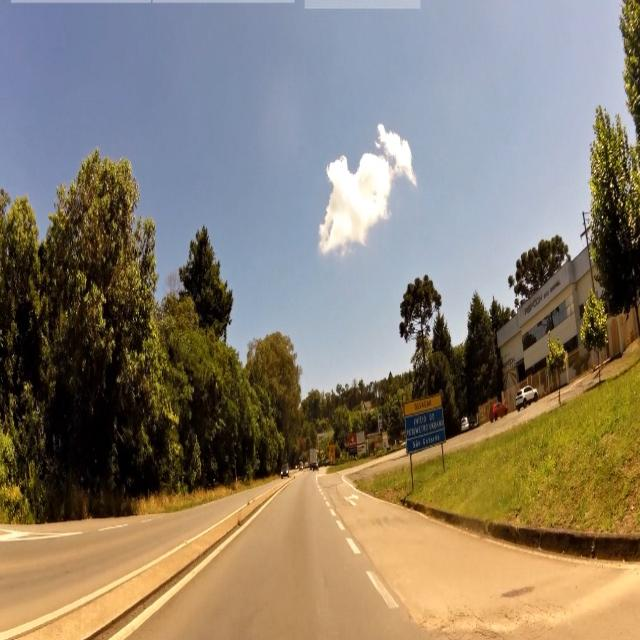LOC-6: (407, 412, 447, 448)
